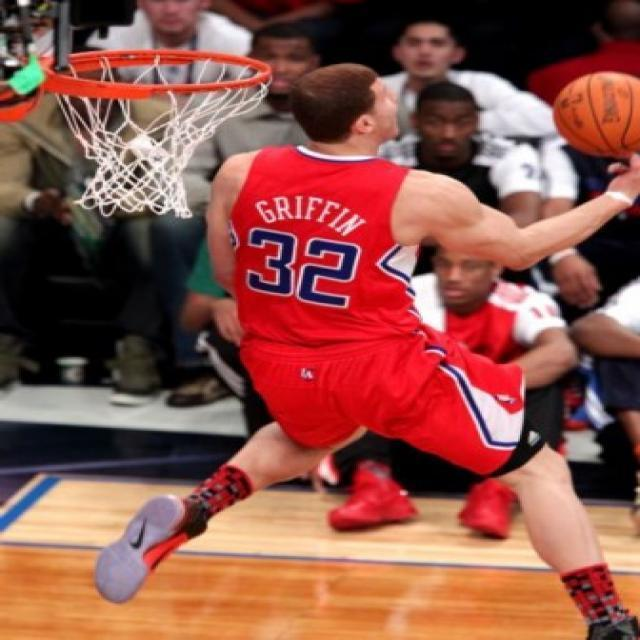hoop: (55, 21, 292, 221)
